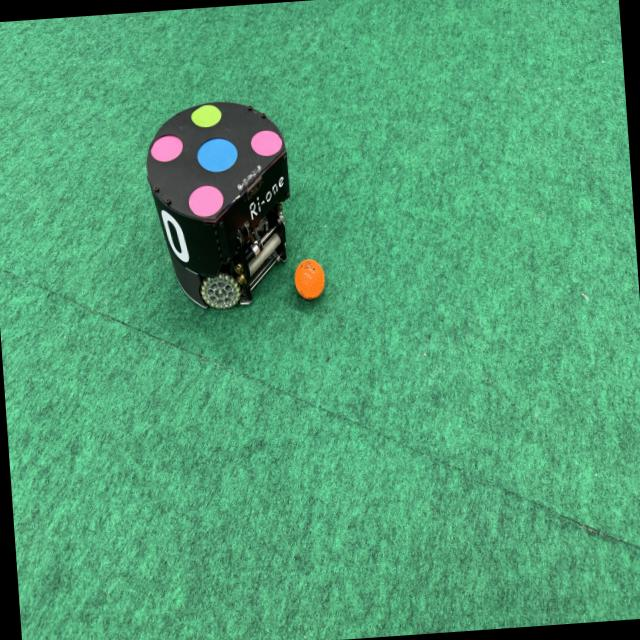ball: (291, 252, 330, 304)
